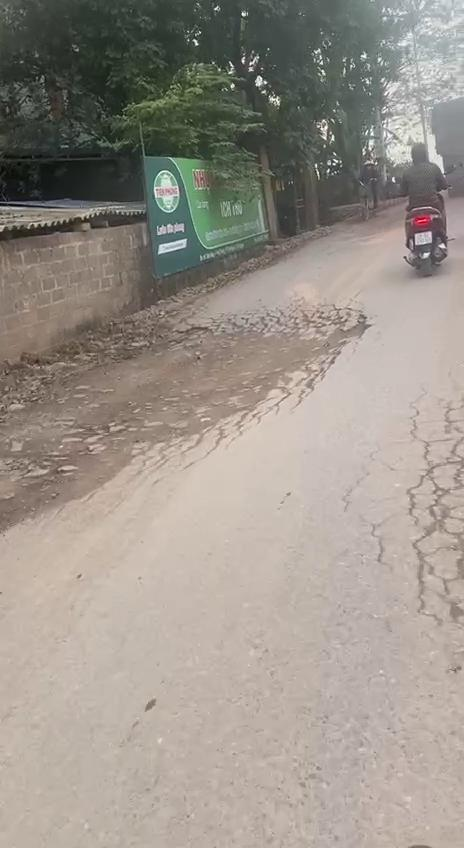pothole: (0, 298, 370, 532)
